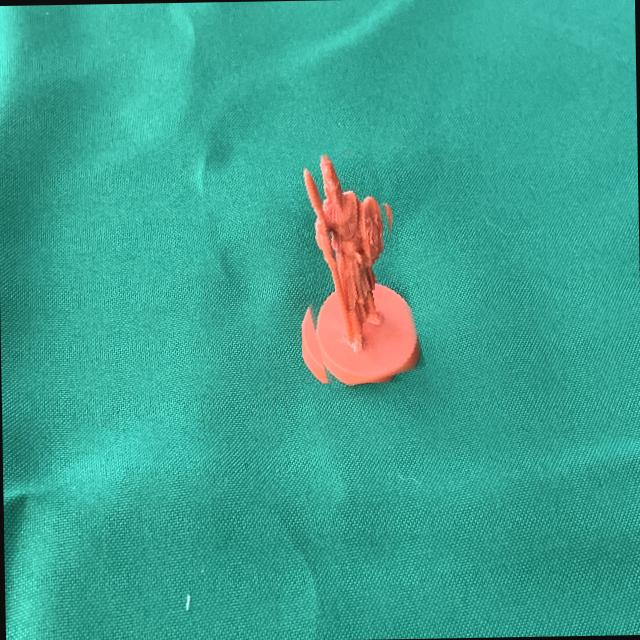amon_follower: (303, 153, 421, 386)
